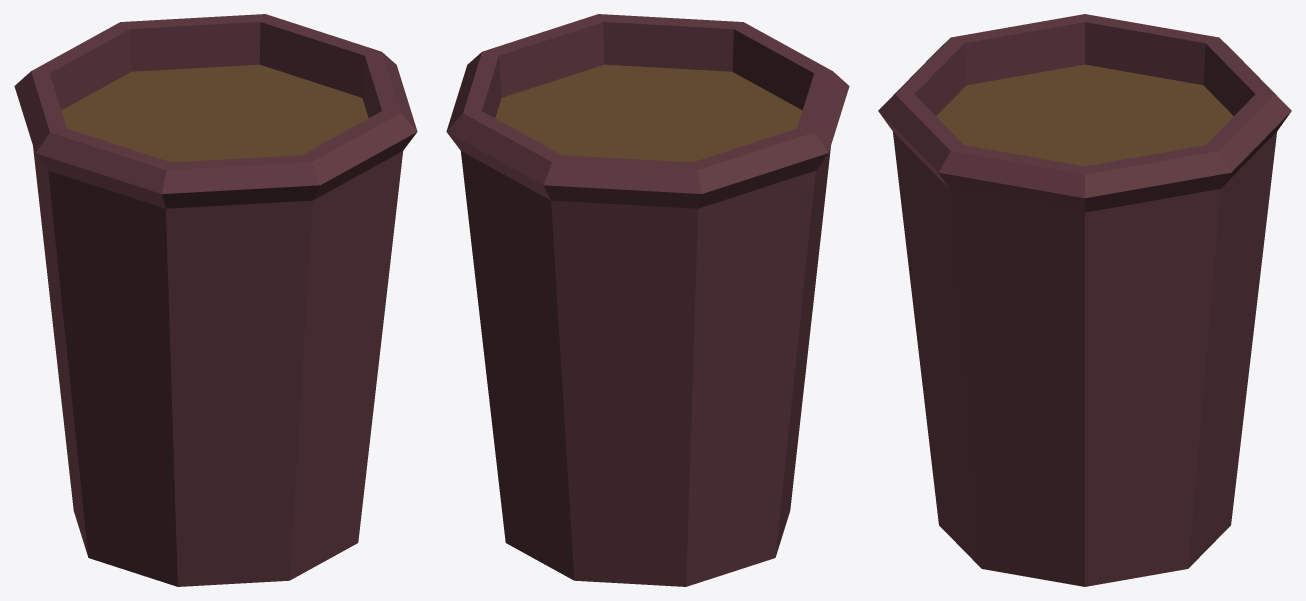
File: drinks-cup-small-coffee.glb
3 views of the same model, side by side, from view 1: azimuth 30°, elevation 25°; view 2: azimuth 150°, elevation 25°; view 3: azimuth 270°, elevation 25° (orthographic).
Parts seen in each view (by area): view 1: cup-small-coffee; view 2: cup-small-coffee; view 3: cup-small-coffee.
Part boxes in pixels (x1,y1,x2,y2): cup-small-coffee: [14, 14, 417, 586]; cup-small-coffee: [446, 14, 849, 586]; cup-small-coffee: [878, 14, 1291, 586].
Size of the model in its own units: 0.0656 by 0.0754 by 0.0656.
